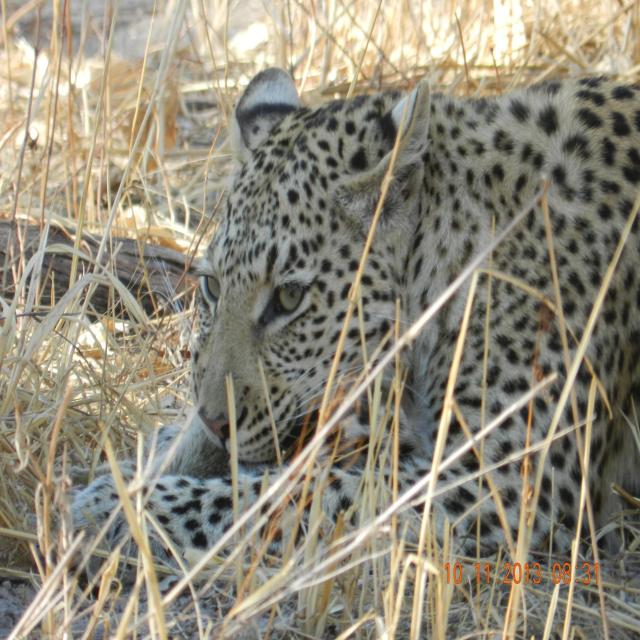Leopard: (10, 55, 640, 595)
